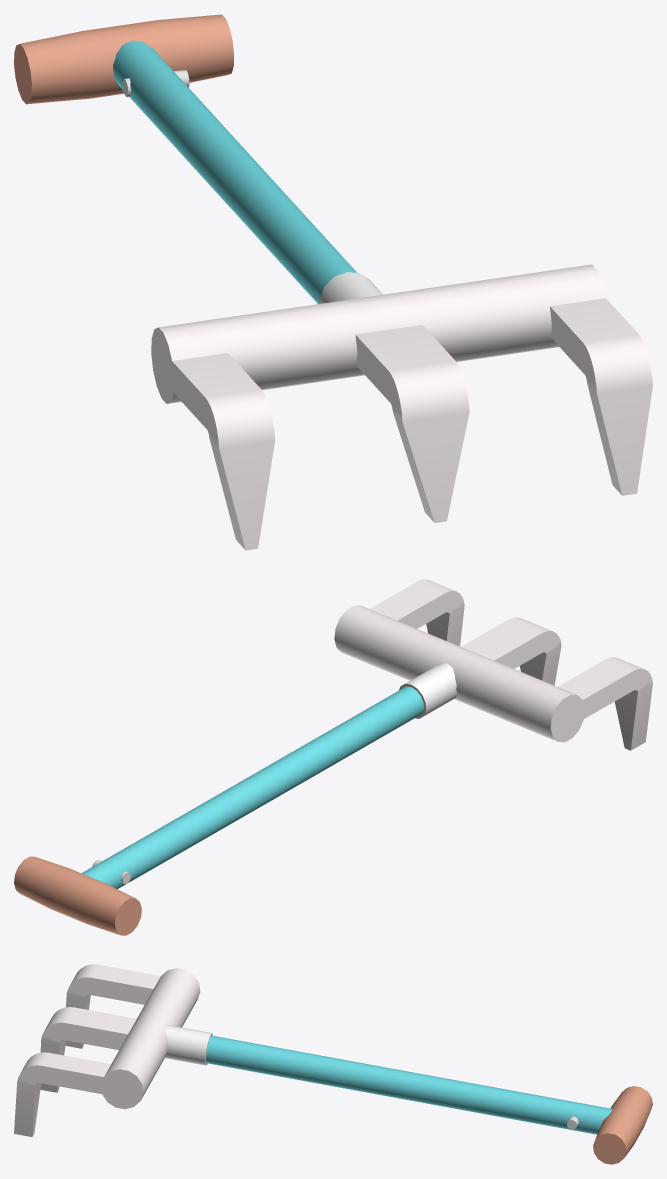
Rendered from penggaruk tanaman kecil.fbx.
The picture shows the model from 3 angles, top to bottom: view 1: azimuth 30°, elevation 25°; view 2: azimuth 150°, elevation 25°; view 3: azimuth 270°, elevation 25°; orthographic projection. The views are drawn at different scales.
Visible parts, largest first — view 1: Cylinder.073, Cylinder.075, Cylinder.076, Cylinder.074; view 2: Cylinder.073, Cylinder.075, Cylinder.076, Cylinder.074; view 3: Cylinder.073, Cylinder.075, Cylinder.076, Cylinder.074.
Boxes of the visible parts, x1,y1,x2,y2 form: Cylinder.073: [151, 264, 652, 550]; Cylinder.075: [113, 40, 356, 303]; Cylinder.076: [14, 14, 233, 104]; Cylinder.074: [320, 272, 382, 303]; Cylinder.073: [334, 579, 652, 750]; Cylinder.075: [81, 686, 423, 888]; Cylinder.076: [14, 856, 141, 935]; Cylinder.074: [399, 663, 456, 718]; Cylinder.073: [14, 964, 200, 1136]; Cylinder.075: [206, 1035, 612, 1134]; Cylinder.076: [593, 1086, 652, 1164]; Cylinder.074: [165, 1025, 212, 1065].
Size of the model in its own units: 174 by 51.11 by 350.
